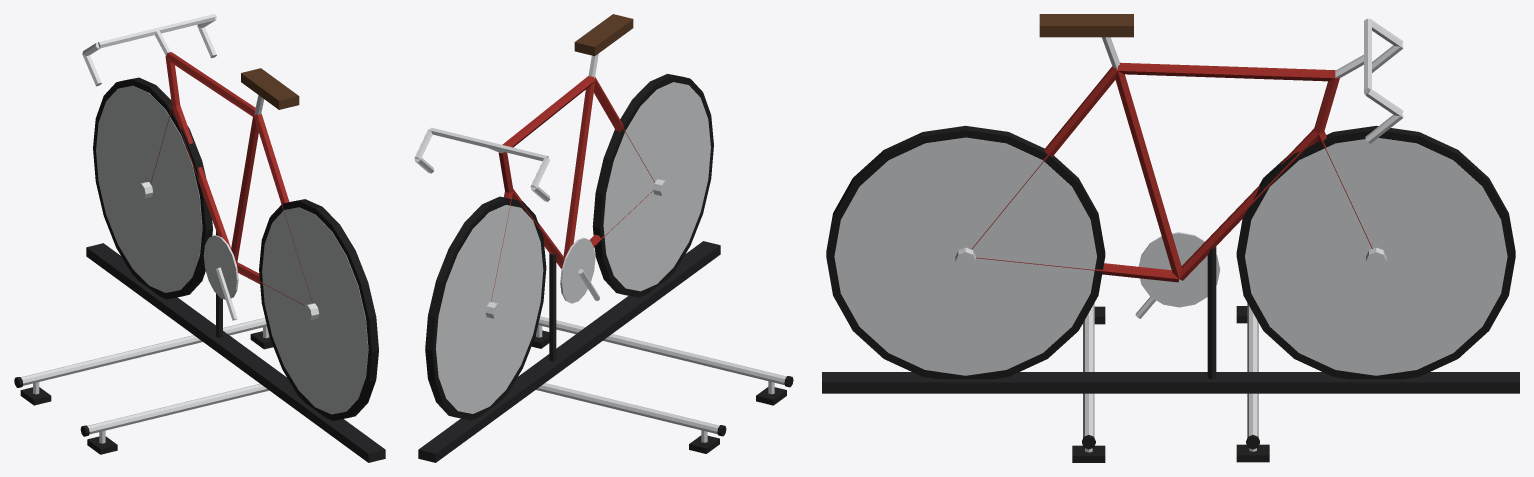
File: roofrack_bike_classic.glb
3 renders of one model, left to right at view 1: azimuth 30°, elevation 25°; view 2: azimuth 150°, elevation 25°; view 3: azimuth 270°, elevation 25°, orthographic. The views are drawn at different scales.
Parts seen in each view (by area): view 1: Bike, Tray, RoofRack; view 2: Bike, Tray, RoofRack; view 3: Bike, Tray, RoofRack.
Boxes of the visible parts, x1,y1,x2,y2 form: Bike: (82,14,378,420); Tray: (86,243,385,462); RoofRack: (14,318,273,454); Bike: (414,14,713,420); Tray: (418,241,720,462); RoofRack: (531,316,793,453); Bike: (826,14,1515,379); Tray: (822,372,1519,393); RoofRack: (1072,303,1269,462).
Size of the model in its own units: 0.932 by 1.07 by 1.7.
